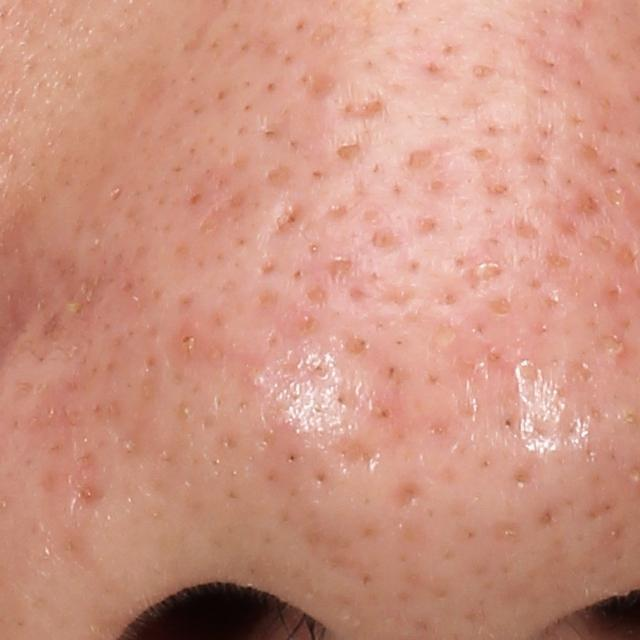atrophic_scar: (326, 431, 386, 480), (464, 233, 510, 296), (332, 84, 385, 124), (264, 198, 305, 243), (386, 478, 421, 522), (311, 65, 341, 103)
